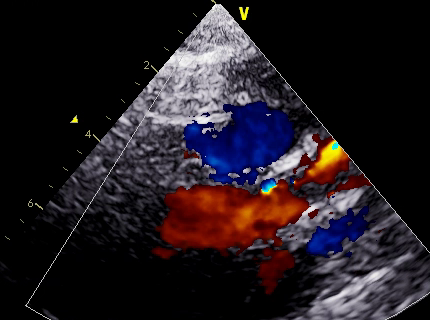AR: (180, 172, 304, 247)
